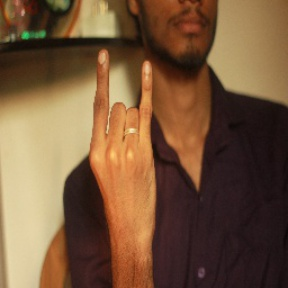V: (86, 45, 165, 226)
